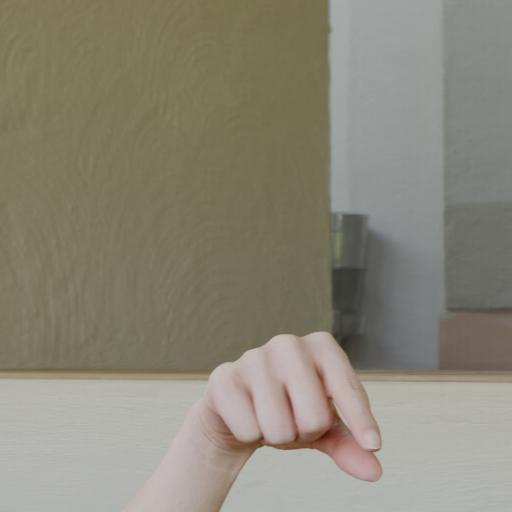Q: (202, 322, 386, 487)
